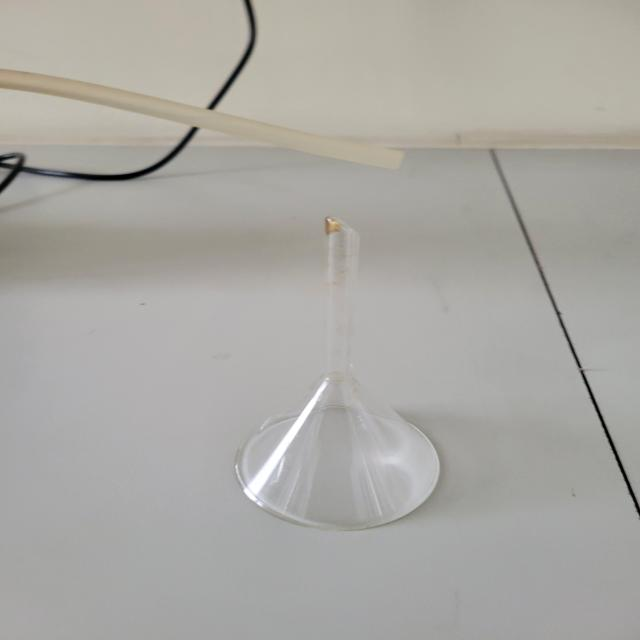Funnel: (208, 193, 472, 556)
